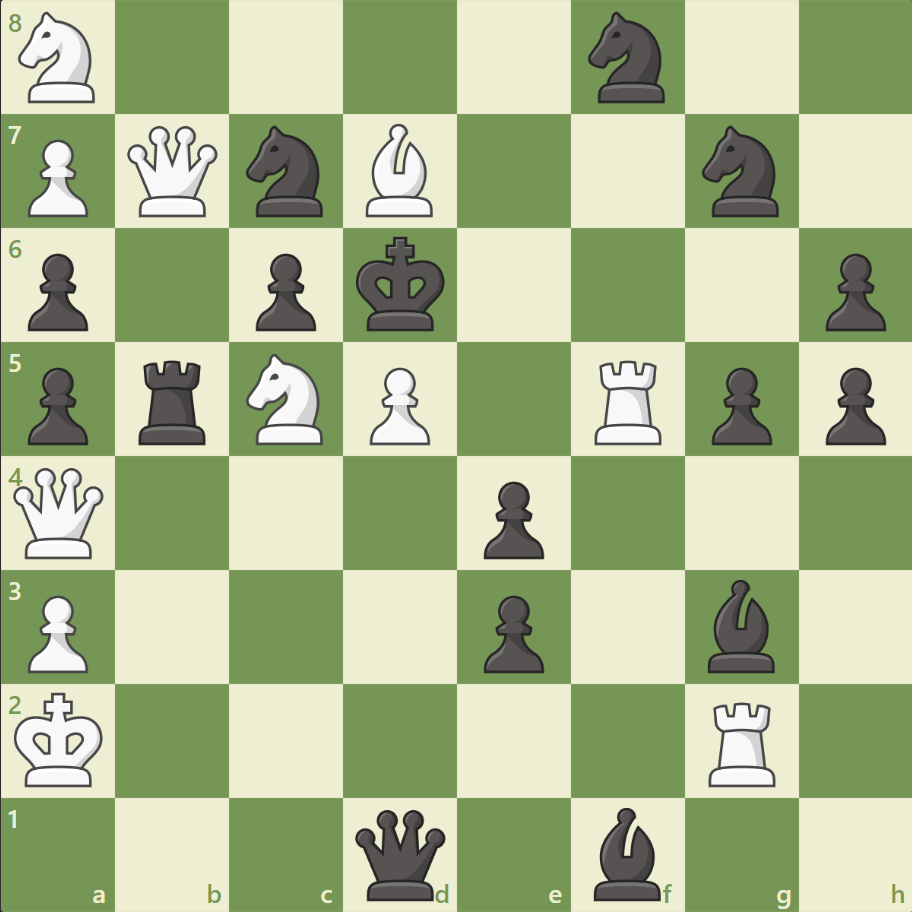B: (358, 120, 442, 222)
K: (11, 685, 111, 793)
N: (11, 7, 108, 110), (238, 348, 335, 450)
P: (20, 132, 95, 223), (20, 586, 95, 677), (361, 359, 435, 450)
Q: (124, 122, 223, 222), (10, 463, 109, 562)
R: (587, 352, 670, 449), (700, 693, 783, 790)
b: (585, 801, 669, 904), (698, 574, 782, 676)
k: (351, 231, 451, 339)
n: (579, 7, 676, 110), (238, 121, 335, 223), (692, 121, 789, 223)
p: (20, 246, 95, 337), (247, 246, 322, 337), (20, 359, 95, 450), (701, 359, 776, 450), (474, 473, 549, 564), (474, 586, 549, 677), (815, 246, 889, 337), (815, 359, 889, 450)
q: (351, 804, 450, 903)
r: (133, 352, 215, 449)
